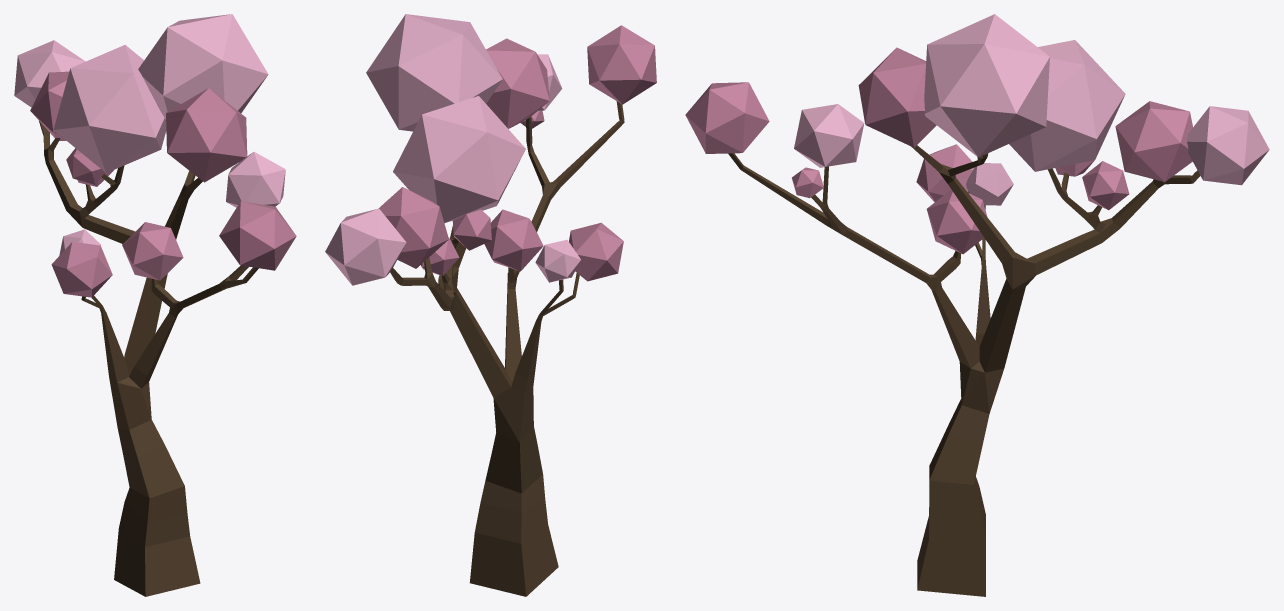
Rendered from Sakura_v2.glb.
3 renders of one model, left to right at view 1: azimuth 30°, elevation 25°; view 2: azimuth 150°, elevation 25°; view 3: azimuth 270°, elevation 25°, orthographic. The views are drawn at different scales.
Visible parts, largest first — view 1: Big tree.001, Icosphere.005, Icosphere.002, Icosphere.006, Icosphere, Icosphere.004, Icosphere.011, Icosphere.003, Icosphere.001, Icosphere.008, Icosphere.010, Icosphere.007; view 2: Big tree.001, Icosphere.005, Icosphere.002, Icosphere.001, Icosphere, Icosphere.006, Icosphere.008, Icosphere.011, Icosphere.003, Icosphere.007, Icosphere.010, Icosphere.009 (+1 smaller); view 3: Big tree.001, Icosphere.002, Icosphere.005, Icosphere.006, Icosphere.001, Icosphere.008, Icosphere, Icosphere.004, Icosphere.011, Icosphere.003, Icosphere.009, Icosphere.007.
Boxes of the visible parts, left/top/right/bottom form: Big tree.001: left=39, top=121, right=258, bottom=596; Icosphere.005: left=53, top=45, right=166, bottom=172; Icosphere.002: left=138, top=14, right=268, bottom=119; Icosphere.006: left=166, top=88, right=247, bottom=182; Icosphere: left=219, top=201, right=296, bottom=270; Icosphere.004: left=226, top=152, right=285, bottom=207; Icosphere.011: left=122, top=222, right=183, bottom=280; Icosphere.003: left=51, top=242, right=112, bottom=297; Icosphere.001: left=14, top=40, right=85, bottom=107; Icosphere.008: left=30, top=71, right=68, bottom=140; Icosphere.010: left=66, top=148, right=104, bottom=184; Icosphere.007: left=59, top=229, right=100, bottom=255; Big tree.001: left=390, top=101, right=624, bottom=596; Icosphere.005: left=393, top=96, right=525, bottom=223; Icosphere.002: left=366, top=14, right=502, bottom=131; Icosphere.001: left=325, top=208, right=406, bottom=285; Icosphere: left=587, top=25, right=656, bottom=104; Icosphere.006: left=486, top=38, right=549, bottom=128; Icosphere.008: left=378, top=187, right=448, bottom=268; Icosphere.011: left=484, top=209, right=543, bottom=271; Icosphere.003: left=569, top=222, right=623, bottom=281; Icosphere.007: left=535, top=239, right=580, bottom=282; Icosphere.010: left=452, top=209, right=491, bottom=250; Icosphere.009: left=421, top=237, right=459, bottom=275; Big tree.001: left=728, top=145, right=1200, bottom=596; Icosphere.002: left=924, top=14, right=1049, bottom=157; Icosphere.005: left=1009, top=40, right=1125, bottom=171; Icosphere.006: left=858, top=47, right=936, bottom=147; Icosphere.001: left=1187, top=106, right=1269, bottom=185; Icosphere.008: left=1115, top=101, right=1192, bottom=181; Icosphere: left=685, top=82, right=769, bottom=153; Icosphere.004: left=794, top=104, right=864, bottom=167; Icosphere.011: left=926, top=189, right=987, bottom=254; Icosphere.003: left=916, top=144, right=974, bottom=202; Icosphere.009: left=1082, top=161, right=1129, bottom=210; Icosphere.007: left=966, top=163, right=1013, bottom=205.
Bounding box in the file's own units: 0.6488 × 1.57 × 1.41.
